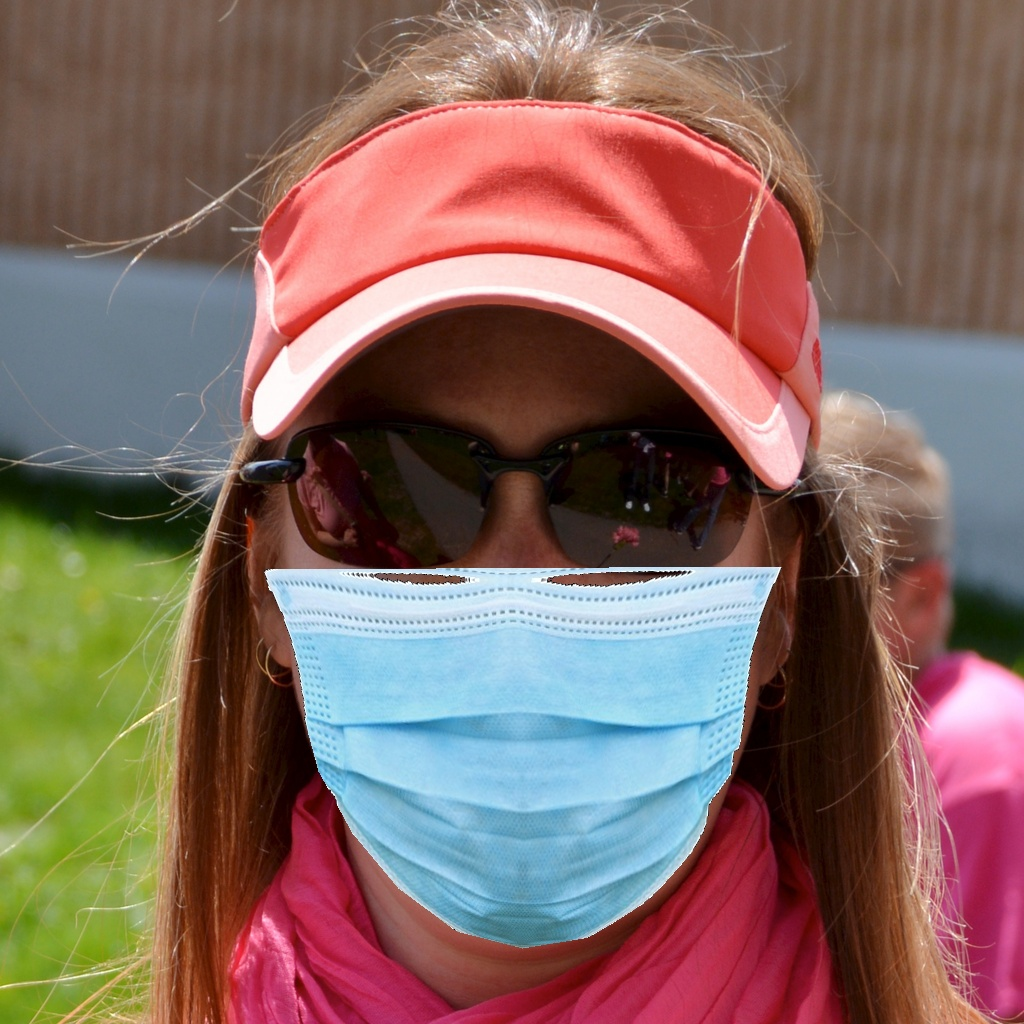Mask: (264, 364, 822, 948)
